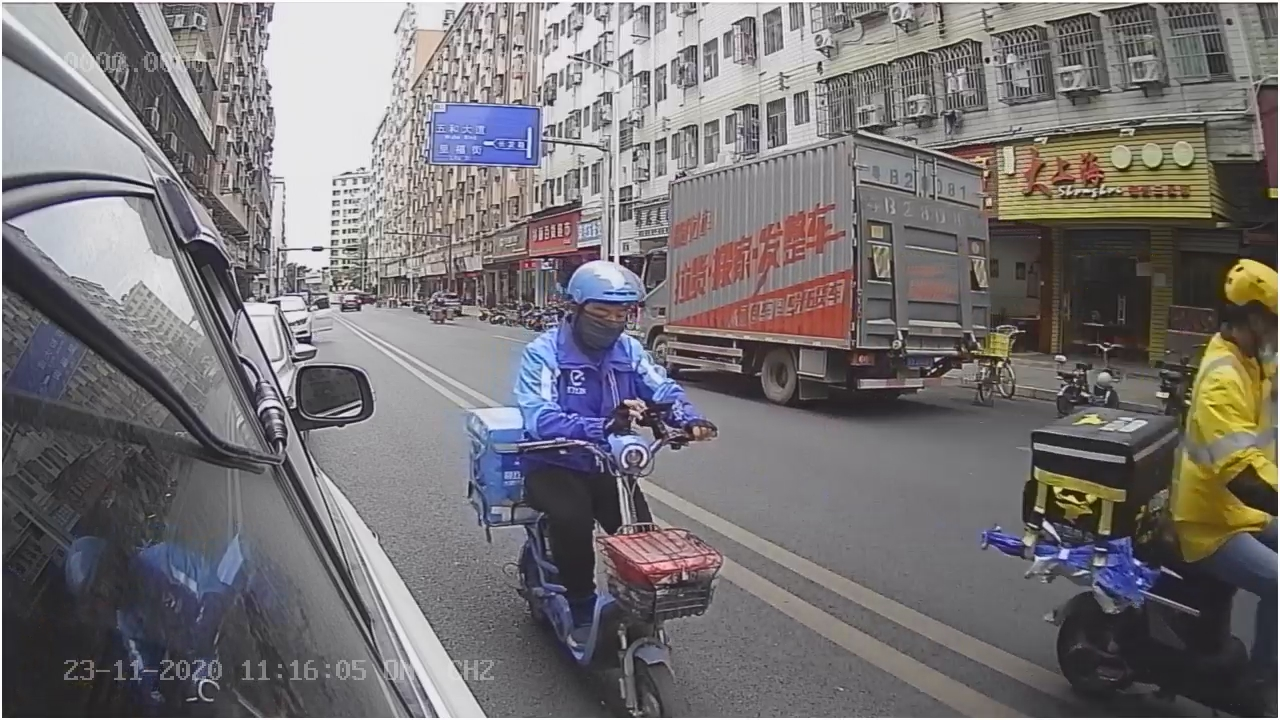person: (510, 254, 691, 410)
